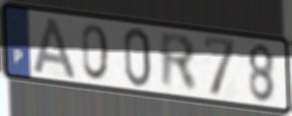0: (121, 25, 153, 90), (80, 23, 110, 82)
7: (202, 34, 238, 100)
8: (246, 41, 278, 104)
A: (31, 15, 79, 81)
R: (157, 29, 201, 95)
